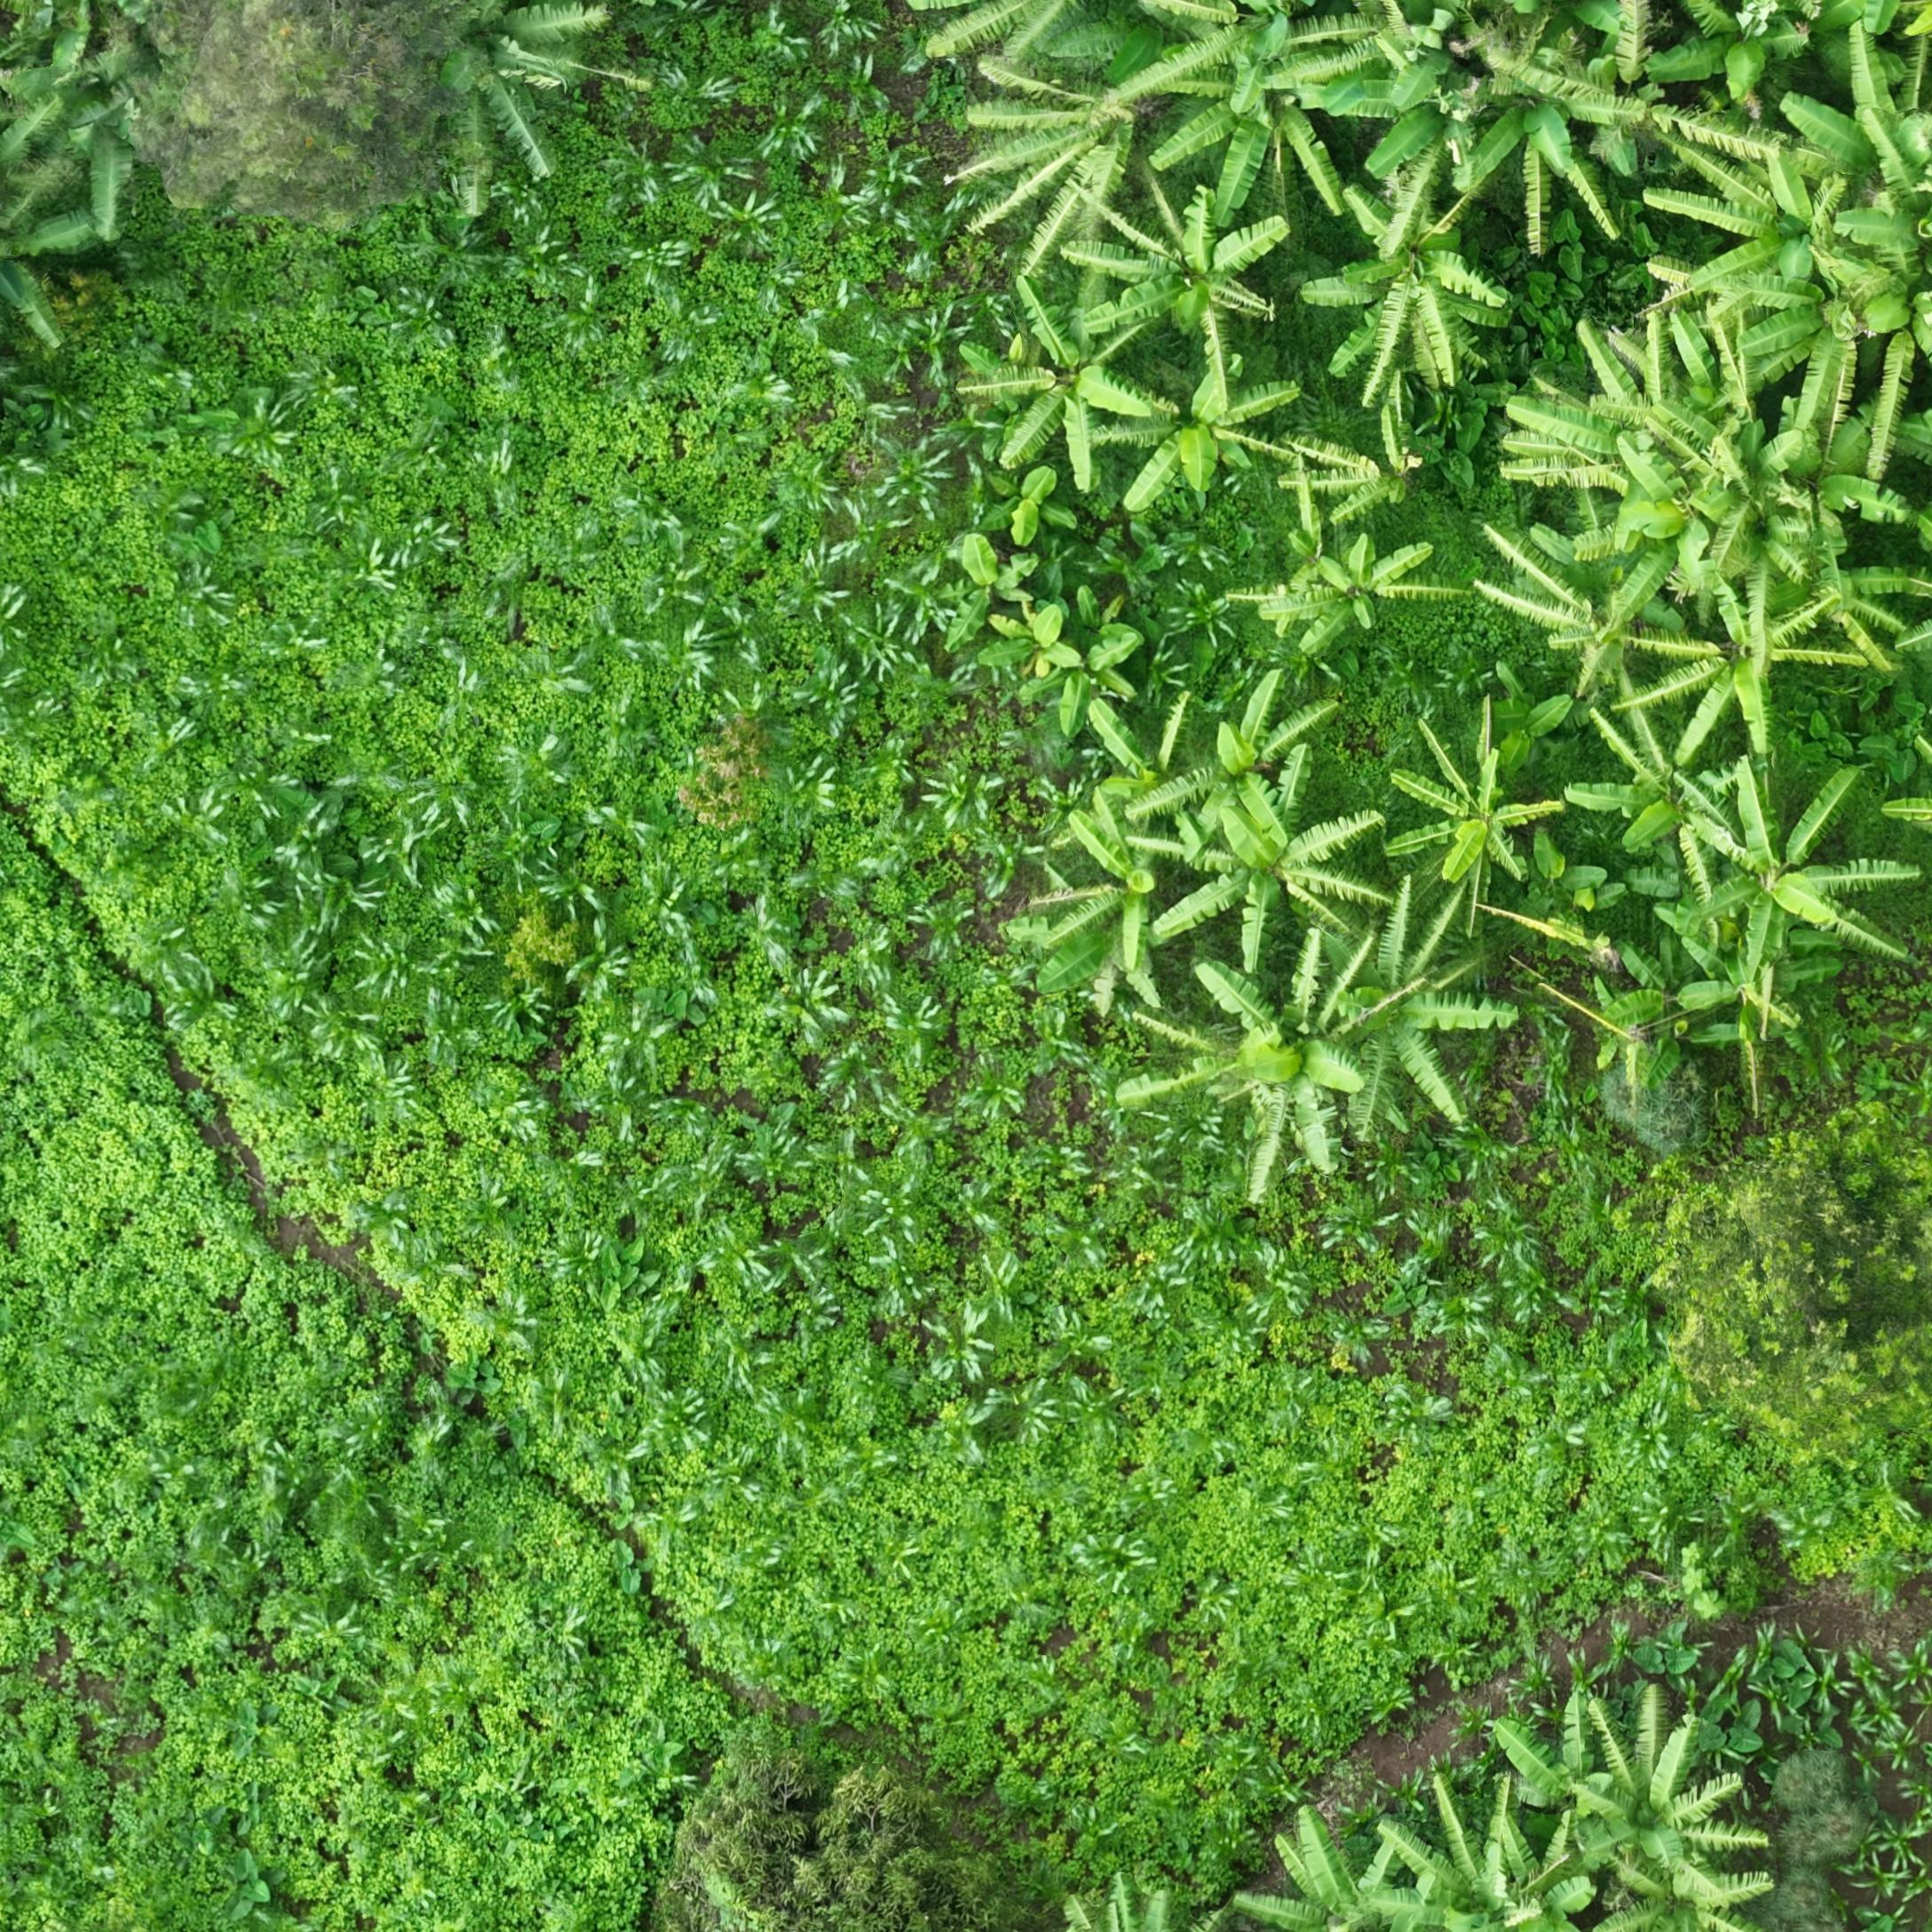Banana: (1203, 800, 1440, 1008), (1104, 180, 1339, 377), (1023, 287, 1214, 506), (1527, 7, 1734, 209), (1152, 366, 1391, 540), (1709, 418, 1932, 596), (1721, 230, 1932, 412), (1001, 64, 1196, 258), (1546, 531, 1766, 701), (1231, 991, 1405, 1203), (1389, 985, 1582, 1175), (1426, 745, 1624, 927), (1734, 814, 1932, 993), (1384, 186, 1552, 396), (1629, 497, 1858, 651), (1228, 14, 1424, 186), (1652, 1764, 1849, 1932), (1709, 617, 1904, 780), (1576, 350, 1759, 524), (1684, 964, 1904, 1108), (1102, 833, 1235, 1037), (1548, 1776, 1721, 1932), (1776, 143, 1932, 308), (1311, 545, 1518, 667), (1399, 5, 1552, 168), (1576, 570, 1750, 708), (1635, 738, 1805, 865), (1442, 1844, 1647, 1932), (1299, 1851, 1509, 1932), (1348, 433, 1490, 545), (1548, 694, 1644, 807)
